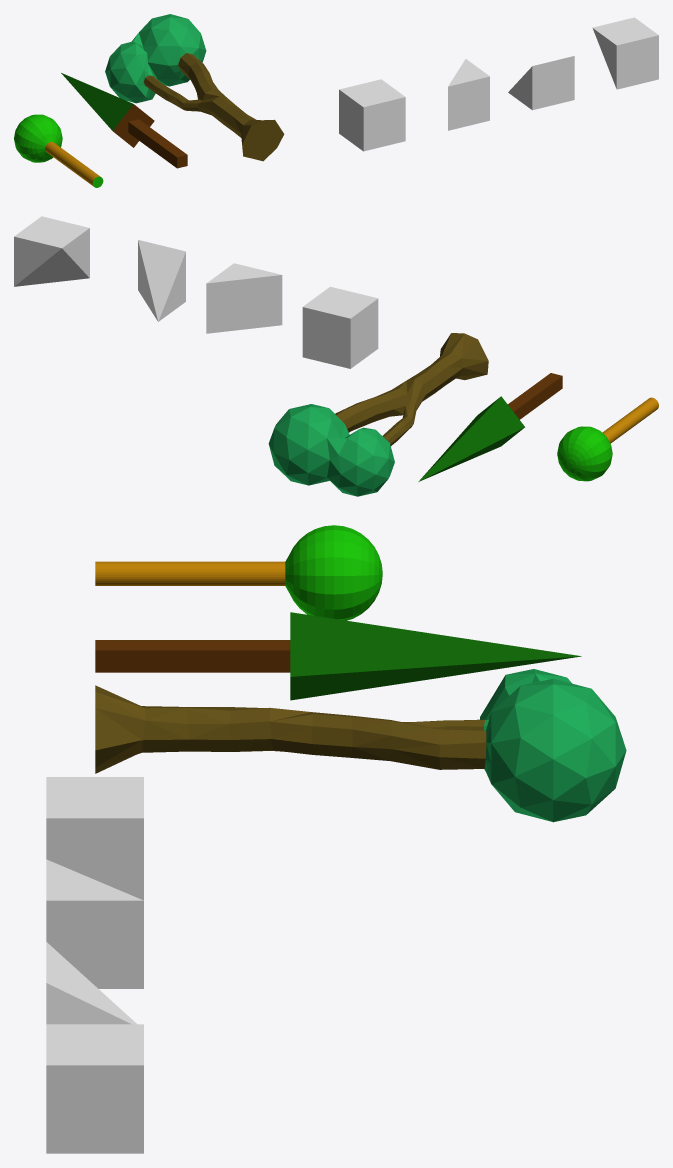
File: land-set-1c.dae
3 renders of one model, top to bottom at view 1: azimuth 30°, elevation 25°; view 2: azimuth 150°, elevation 25°; view 3: azimuth 270°, elevation 25°, orthographic. The views are drawn at different scales.
Visible parts, largest first — view 1: tree_3, land_0, land_3, tree_2, tree_1, land_2, land_1; view 2: tree_3, land_0, land_1, land_3, tree_2, tree_1, land_2; view 3: tree_3, tree_2, land_3, tree_1, land_0, land_1, land_2.
Part boxes in pixels (bbox=[...]): tree_3: bbox=[105, 14, 284, 161]; land_0: bbox=[339, 79, 405, 151]; land_3: bbox=[592, 17, 658, 89]; tree_2: bbox=[61, 73, 187, 168]; tree_1: bbox=[14, 114, 103, 187]; land_2: bbox=[508, 56, 574, 110]; land_1: bbox=[448, 59, 489, 130]; tree_3: bbox=[268, 333, 488, 496]; land_0: bbox=[302, 286, 378, 368]; land_1: bbox=[206, 263, 282, 333]; land_3: bbox=[14, 216, 89, 286]; tree_2: bbox=[418, 373, 562, 481]; tree_1: bbox=[557, 397, 658, 481]; land_2: bbox=[138, 240, 185, 321]; tree_3: bbox=[95, 669, 626, 822]; tree_2: bbox=[95, 612, 581, 700]; land_3: bbox=[46, 1024, 143, 1153]; tree_1: bbox=[95, 525, 382, 620]; land_0: bbox=[46, 777, 143, 900]; land_1: bbox=[46, 859, 143, 988]; land_2: bbox=[46, 942, 136, 1024].
Size of the model in its own units: 13.5 by 5.95 by 1.6.
3 materials, 3 textured.
